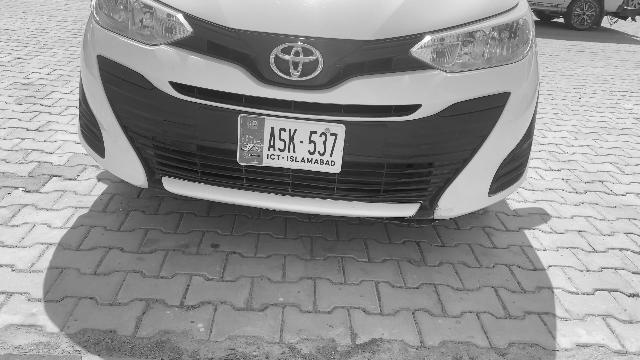Number: (266, 125, 340, 159)
